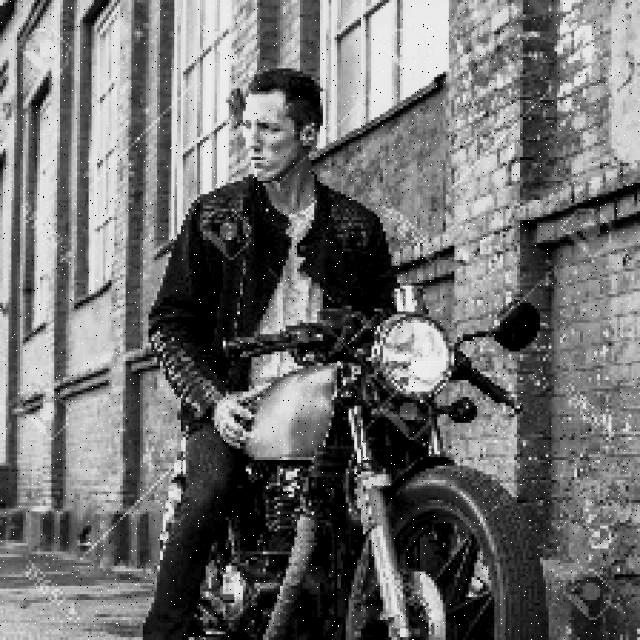Bike: (218, 317, 556, 640)
